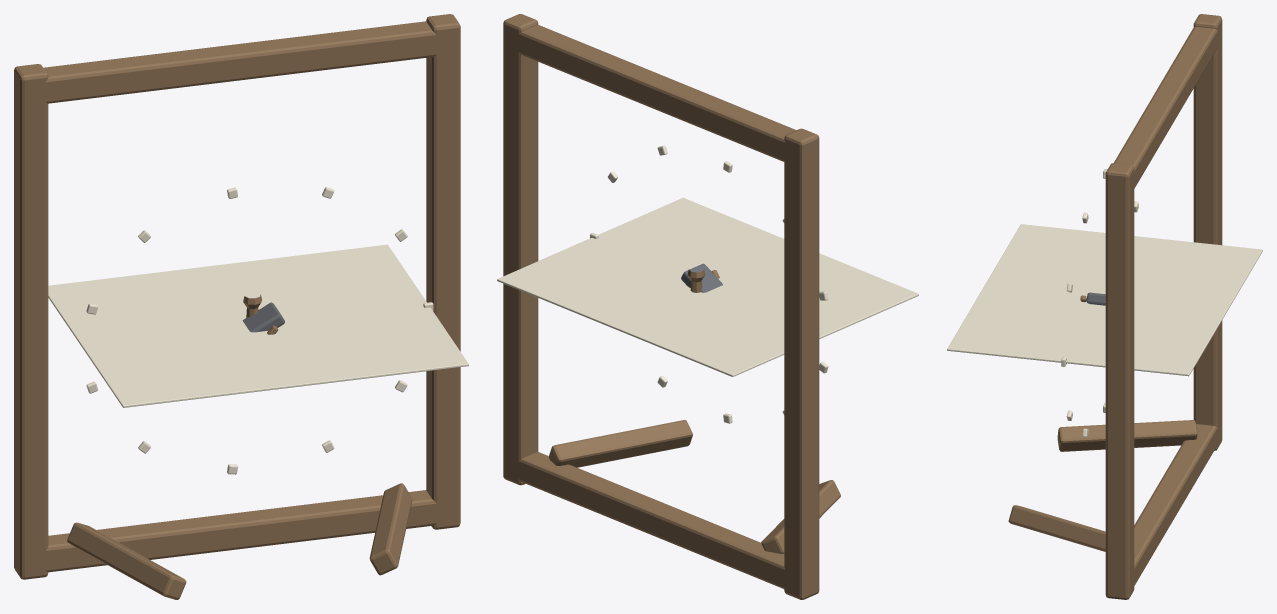
File: monastery_parchment_stretching_frame.glb
The picture shows the model from 3 angles, left to right: view 1: azimuth 30°, elevation 25°; view 2: azimuth 150°, elevation 25°; view 3: azimuth 270°, elevation 25°; orthographic projection. The views are drawn at different scales.
Visible parts, largest first — view 1: world; view 2: world; view 3: world.
Boxes of the visible parts, x1,y1,x2,y2 form: world: [14, 14, 468, 599]; world: [497, 14, 918, 599]; world: [947, 14, 1262, 599].
Size of the model in its own units: 1.63 by 2 by 1.34.
